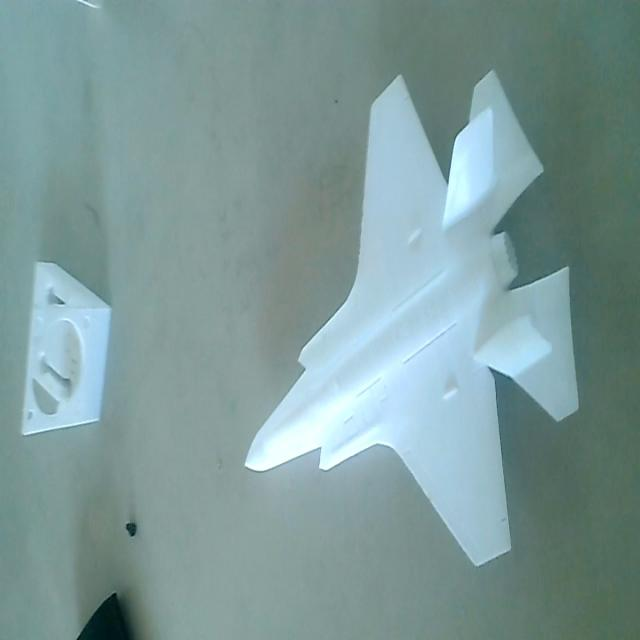Jet: (228, 68, 583, 574)
